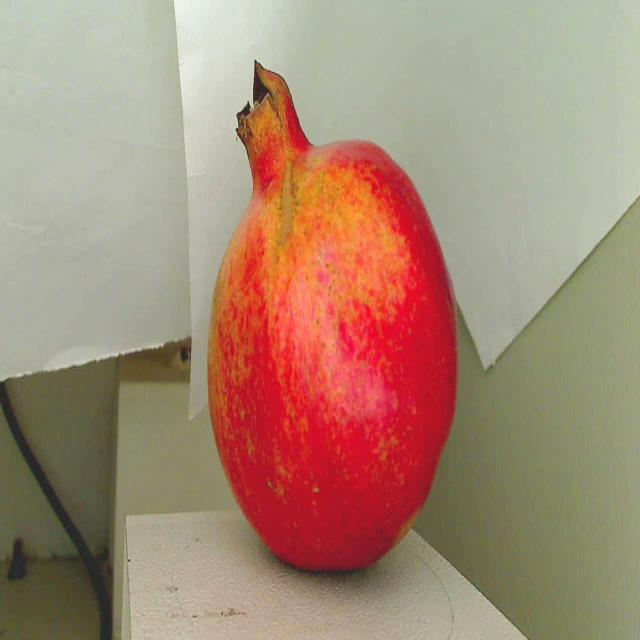pomegranate: (194, 54, 472, 590)
